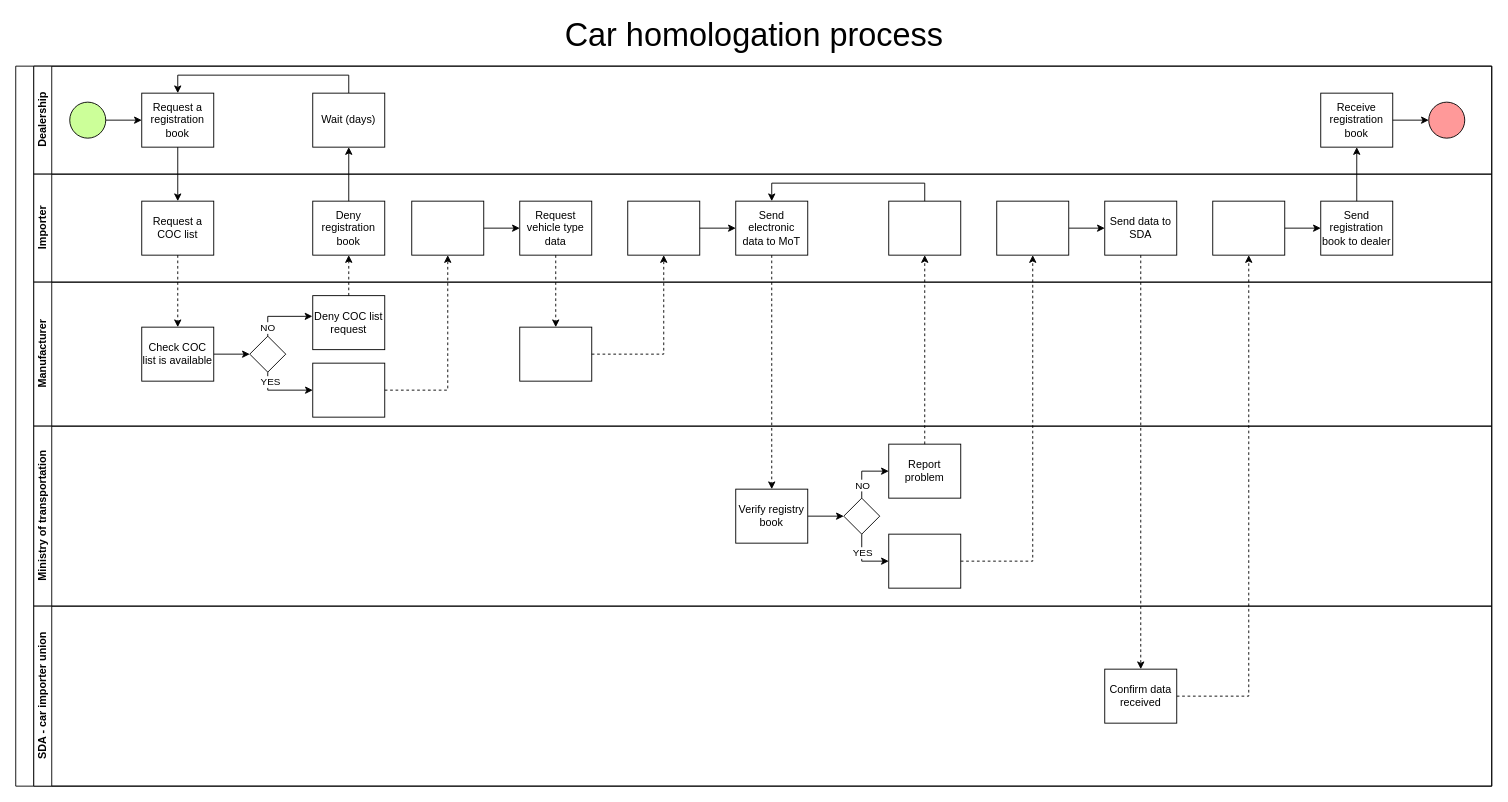
The diagram is 1508 pixels wide and 802 high, and some of its shapes have lost their labels. Each missing label, with the centre of its shape:
"Add registration book to print queue" goes at pixel 1032 227.
"Compose registration book" goes at pixel 663 227.
"Confirm registration book" goes at pixel 924 560.
"Fix problems" goes at pixel 924 227.
"OK?" goes at pixel 861 515.
"Print registration book" goes at pixel 1248 227.
"Process COC list data" goes at pixel 447 227.
"Send COC list" goes at pixel 348 389.
"Send vehicle type data" goes at pixel 555 353.
